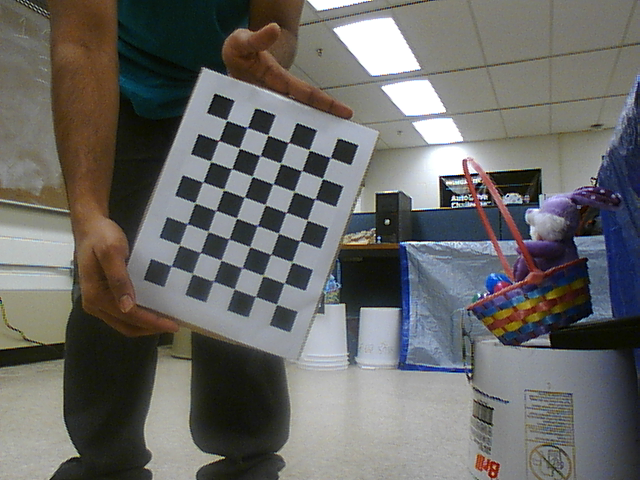bunny: (455, 154, 602, 344)
